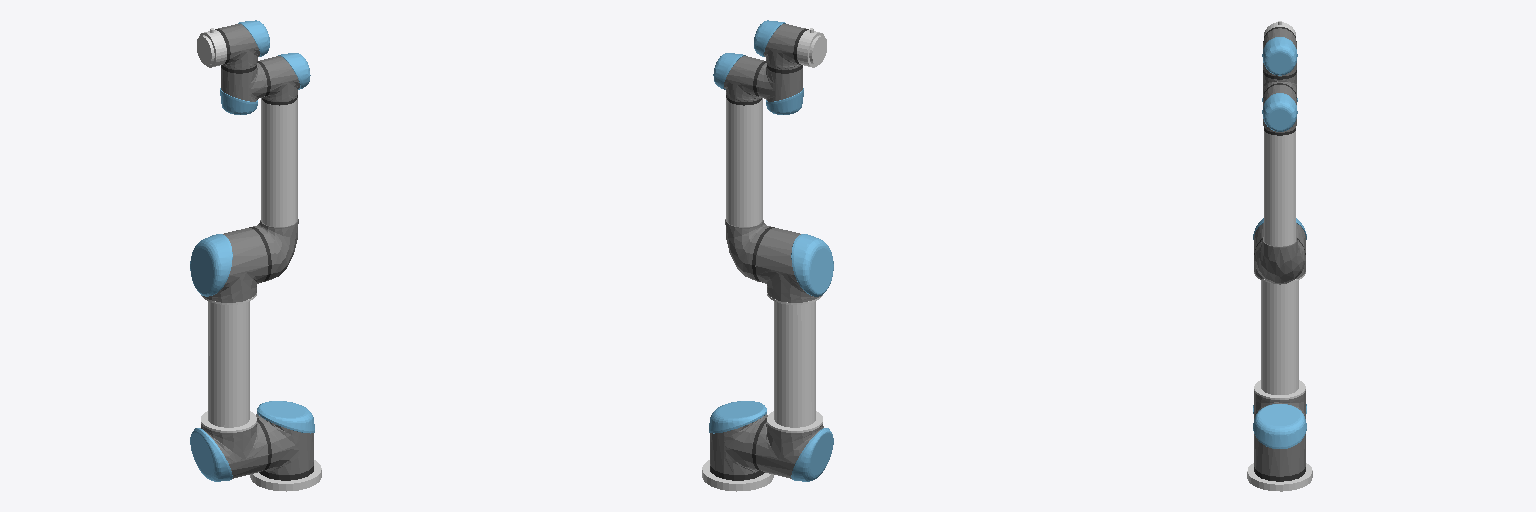
robot.urdf — UR5:
<?xml version="1.0"?>
<robot name="UR5">
    <link name="robot_base">
        <collision name="UR5">
            <origin rpy="-3.141593 3.141593 -2.552481" xyz="-0.000000 -0.000000 0.008500" />
            <geometry>
                <cylinder length="0.012300089001656" radius="0.056886240839958" />
            </geometry>
        </collision>
        <collision name="UR5">
            <origin rpy="-3.141592 3.141593 1.747927" xyz="0.000000 0.000000 -0.006150" />
            <geometry>
                <cylinder length="0.017000352963805" radius="0.072642646729946" />
            </geometry>
        </collision>
        <visual name="link1_visible">
            <origin rpy="-3.141593 3.141593 -3.141593" xyz="-0.000000 -0.000000 0.000000" />
            <geometry>
                <mesh filename="ur5_link1_visible_vis_1.dae" />
            </geometry>
            <material name="link1_visible_material">
                <color rgba="0.870588 0.870588 0.870588 1.0" />
            </material>
        </visual>
        <visual name="link1_visible">
            <origin rpy="-3.141593 3.141593 -3.141593" xyz="-0.000000 -0.000000 0.000000" />
            <geometry>
                <mesh filename="ur5_link1_visible_vis_2.dae" />
            </geometry>
            <material name="link1_visible_material">
                <color rgba="0.282353 0.282353 0.282353 1.0" />
            </material>
        </visual>
    </link>
    <joint name="joint" type="revolute">
        <axis xyz="0 0 1" />
        <limit upper="6.2831853071792" effort="200.0" velocity="1.5707963705063" lower="-6.28318530718" />
        <parent link="robot_base" />
        <child link="link" />
        <origin rpy="-3.141593 3.141593 -3.141593" xyz="0.000000 -0.000000 0.008500" />
    </joint>
    <link name="link">
        <inertial>
            <origin rpy="-3.141593 3.141593 -3.141593" xyz="-0.012312 0.000048 0.066405" />
            <inertia iyz="-7.9251186174956e-05" ixz="0.0024490834762624" ixx="0.095492165355254" ixy="8.9516803607533e-05" iyy="0.10672965841326" izz="0.09818059467752" />
            <mass value="2.5" />
        </inertial>
        <collision name="link">
            <origin rpy="-3.141593 3.141593 -3.141593" xyz="-0.007178 0.000095 0.070381" />
            <geometry>
                <mesh filename="ur5_link_coll_1.dae" />
            </geometry>
        </collision>
        <collision name="link">
            <origin rpy="-3.141593 3.141593 -3.141593" xyz="-0.007178 0.000095 0.070381" />
            <geometry>
                <mesh filename="ur5_link_coll_2.dae" />
            </geometry>
        </collision>
        <collision name="link">
            <origin rpy="-3.141593 3.141593 -3.141593" xyz="-0.007178 0.000095 0.070381" />
            <geometry>
                <mesh filename="ur5_link_coll_3.dae" />
            </geometry>
        </collision>
        <visual name="link2_visible">
            <origin rpy="-3.141593 3.141593 -3.141593" xyz="-0.007150 0.000000 0.070335" />
            <geometry>
                <mesh filename="ur5_link2_visible_vis_1.dae" />
            </geometry>
            <material name="link2_visible_material">
                <color rgba="0.282353 0.282353 0.282353 1.0" />
            </material>
        </visual>
        <visual name="link2_visible">
            <origin rpy="-3.141593 3.141593 -3.141593" xyz="-0.007150 0.000000 0.070335" />
            <geometry>
                <mesh filename="ur5_link2_visible_vis_2.dae" />
            </geometry>
            <material name="link2_visible_material">
                <color rgba="0.535294 0.535294 0.535294 1.0" />
            </material>
        </visual>
        <visual name="link2_visible">
            <origin rpy="-3.141593 3.141593 -3.141593" xyz="-0.007150 0.000000 0.070335" />
            <geometry>
                <mesh filename="ur5_link2_visible_vis_3.dae" />
            </geometry>
            <material name="link2_visible_material">
                <color rgba="0.508235 0.761224 0.903529 1.0" />
            </material>
        </visual>
    </link>
    <joint name="joint_2" type="revolute">
        <axis xyz="0 0 1" />
        <limit upper="6.2831854820251" effort="200.0" velocity="1.5707963705063" lower="-6.2831854820251" />
        <parent link="link" />
        <child link="link_2" />
        <origin rpy="0.000000 -1.570796 0.000000" xyz="-0.070300 0.000000 0.066050" />
    </joint>
    <link name="link_2">
        <inertial>
            <origin rpy="0.000000 1.570796 0.000000" xyz="0.215595 -0.000035 0.063573" />
            <inertia iyz="-0.00017721757850982" ixz="-0.0052638063542259" ixx="0.62573305153059" ixy="9.2431180680848e-06" iyy="0.63325135224174" izz="0.067345368316432" />
            <mass value="5.6999998092651" />
        </inertial>
        <collision name="link">
            <origin rpy="0.000000 1.570796 0.000000" xyz="0.212550 -0.000115 0.064235" />
            <geometry>
                <mesh filename="ur5_link_2_coll_1.dae" />
            </geometry>
        </collision>
        <collision name="link">
            <origin rpy="0.000000 1.570796 0.000000" xyz="0.212550 -0.000115 0.064235" />
            <geometry>
                <mesh filename="ur5_link_2_coll_2.dae" />
            </geometry>
        </collision>
        <collision name="link">
            <origin rpy="0.000000 1.570796 0.000000" xyz="0.212550 -0.000115 0.064235" />
            <geometry>
                <mesh filename="ur5_link_2_coll_3.dae" />
            </geometry>
        </collision>
        <collision name="link">
            <origin rpy="0.000000 1.570796 0.000000" xyz="0.212550 -0.000115 0.064235" />
            <geometry>
                <mesh filename="ur5_link_2_coll_4.dae" />
            </geometry>
        </collision>
        <collision name="link">
            <origin rpy="0.000000 1.570796 0.000000" xyz="0.212550 -0.000115 0.064235" />
            <geometry>
                <mesh filename="ur5_link_2_coll_5.dae" />
            </geometry>
        </collision>
        <collision name="link">
            <origin rpy="0.000000 1.570796 0.000000" xyz="0.212550 -0.000115 0.064235" />
            <geometry>
                <mesh filename="ur5_link_2_coll_6.dae" />
            </geometry>
        </collision>
        <collision name="link">
            <origin rpy="0.000000 1.570796 0.000000" xyz="0.212550 -0.000115 0.064235" />
            <geometry>
                <mesh filename="ur5_link_2_coll_7.dae" />
            </geometry>
        </collision>
        <visual name="link3_visible">
            <origin rpy="-0.000000 1.570796 0.000000" xyz="0.212550 0.000000 0.064217" />
            <geometry>
                <mesh filename="ur5_link3_visible_vis_1.dae" />
            </geometry>
            <material name="link3_visible_material">
                <color rgba="0.870588 0.870588 0.870588 1.0" />
            </material>
        </visual>
        <visual name="link3_visible">
            <origin rpy="-0.000000 1.570796 0.000000" xyz="0.212550 0.000000 0.064217" />
            <geometry>
                <mesh filename="ur5_link3_visible_vis_2.dae" />
            </geometry>
            <material name="link3_visible_material">
                <color rgba="0.508235 0.761224 0.903529 1.0" />
            </material>
        </visual>
        <visual name="link3_visible">
            <origin rpy="-0.000000 1.570796 0.000000" xyz="0.212550 0.000000 0.064217" />
            <geometry>
                <mesh filename="ur5_link3_visible_vis_3.dae" />
            </geometry>
            <material name="link3_visible_material">
                <color rgba="0.535294 0.535294 0.535294 1.0" />
            </material>
        </visual>
        <visual name="link3_visible">
            <origin rpy="-0.000000 1.570796 0.000000" xyz="0.212550 0.000000 0.064217" />
            <geometry>
                <mesh filename="ur5_link3_visible_vis_4.dae" />
            </geometry>
            <material name="link3_visible_material">
                <color rgba="0.282353 0.282353 0.282353 1.0" />
            </material>
        </visual>
        <visual name="link3_visible">
            <origin rpy="-0.000000 1.570796 0.000000" xyz="0.212550 0.000000 0.064217" />
            <geometry>
                <mesh filename="ur5_link3_visible_vis_5.dae" />
            </geometry>
            <material name="link3_visible_material">
                <color rgba="0.535294 0.535294 0.535294 1.0" />
            </material>
        </visual>
        <visual name="link3_visible">
            <origin rpy="-0.000000 1.570796 0.000000" xyz="0.212550 0.000000 0.064217" />
            <geometry>
                <mesh filename="ur5_link3_visible_vis_6.dae" />
            </geometry>
            <material name="link3_visible_material">
                <color rgba="0.508235 0.761224 0.903529 1.0" />
            </material>
        </visual>
    </link>
    <joint name="joint_3" type="revolute">
        <axis xyz="0 0 1" />
        <limit upper="6.2831854820251" effort="200.0" velocity="1.5707963705063" lower="-6.2831854820251" />
        <parent link="link_2" />
        <child link="link_3" />
        <origin rpy="-3.141593 3.141593 -3.141593" xyz="0.425100 0.000000 0.000000" />
    </joint>
    <link name="link_3">
        <inertial>
            <origin rpy="0.000000 1.570796 0.000000" xyz="0.192773 0.000015 -0.050153" />
            <inertia iyz="-2.1029099787318e-05" ixz="-0.027670910392482" ixx="0.4592564485459" ixy="2.2187787147887e-06" iyy="0.46060709235019" izz="0.035597955537677" />
            <mass value="3.9000000953674" />
        </inertial>
        <collision name="link">
            <origin rpy="0.000000 1.570796 0.000000" xyz="0.186773 0.000016 -0.057847" />
            <geometry>
                <mesh filename="ur5_link_3_coll_1.dae" />
            </geometry>
        </collision>
        <collision name="link">
            <origin rpy="0.000000 1.570796 0.000000" xyz="0.186773 0.000016 -0.057847" />
            <geometry>
                <mesh filename="ur5_link_3_coll_2.dae" />
            </geometry>
        </collision>
        <collision name="link">
            <origin rpy="0.000000 1.570796 0.000000" xyz="0.186773 0.000016 -0.057847" />
            <geometry>
                <mesh filename="ur5_link_3_coll_3.dae" />
            </geometry>
        </collision>
        <collision name="link">
            <origin rpy="0.000000 1.570796 0.000000" xyz="0.186773 0.000016 -0.057847" />
            <geometry>
                <mesh filename="ur5_link_3_coll_4.dae" />
            </geometry>
        </collision>
        <collision name="link">
            <origin rpy="0.000000 1.570796 0.000000" xyz="0.186773 0.000016 -0.057847" />
            <geometry>
                <mesh filename="ur5_link_3_coll_5.dae" />
            </geometry>
        </collision>
        <visual name="link4_visible">
            <origin rpy="0.000000 1.570796 0.000000" xyz="0.186650 -0.000000 -0.057850" />
            <geometry>
                <mesh filename="ur5_link4_visible_vis_1.dae" />
            </geometry>
            <material name="link4_visible_material">
                <color rgba="0.870588 0.870588 0.870588 1.0" />
            </material>
        </visual>
        <visual name="link4_visible">
            <origin rpy="0.000000 1.570796 0.000000" xyz="0.186650 -0.000000 -0.057850" />
            <geometry>
                <mesh filename="ur5_link4_visible_vis_2.dae" />
            </geometry>
            <material name="link4_visible_material">
                <color rgba="0.535294 0.535294 0.535294 1.0" />
            </material>
        </visual>
        <visual name="link4_visible">
            <origin rpy="0.000000 1.570796 0.000000" xyz="0.186650 -0.000000 -0.057850" />
            <geometry>
                <mesh filename="ur5_link4_visible_vis_3.dae" />
            </geometry>
            <material name="link4_visible_material">
                <color rgba="0.508235 0.761224 0.903529 1.0" />
            </material>
        </visual>
        <visual name="link4_visible">
            <origin rpy="0.000000 1.570796 0.000000" xyz="0.186650 -0.000000 -0.057850" />
            <geometry>
                <mesh filename="ur5_link4_visible_vis_4.dae" />
            </geometry>
            <material name="link4_visible_material">
                <color rgba="0.282353 0.282353 0.282353 1.0" />
            </material>
        </visual>
        <visual name="link4_visible">
            <origin rpy="0.000000 1.570796 0.000000" xyz="0.186650 -0.000000 -0.057850" />
            <geometry>
                <mesh filename="ur5_link4_visible_vis_5.dae" />
            </geometry>
            <material name="link4_visible_material">
                <color rgba="0.535294 0.535294 0.535294 1.0" />
            </material>
        </visual>
    </link>
    <joint name="joint_4" type="revolute">
        <axis xyz="0 0 1" />
        <limit upper="6.2831854820251" effort="200.0" velocity="1.5707963705063" lower="-6.2831854820251" />
        <parent link="link_3" />
        <child link="link_4" />
        <origin rpy="-3.141593 3.141593 -3.141593" xyz="0.392150 0.000000 0.000000" />
    </joint>
    <link name="link_4">
        <inertial>
            <origin rpy="0.000000 1.570796 0.000000" xyz="-0.005517 -0.000003 0.030943" />
            <inertia iyz="-1.791527123899e-05" ixz="-0.0020900872562349" ixx="0.10017005794782" ixy="3.1976010243315e-06" iyy="0.11466452218562" izz="0.087106483494915" />
            <mass value="2.5" />
        </inertial>
        <collision name="link">
            <origin rpy="0.000000 1.570796 0.000000" xyz="-0.007501 -0.000045 0.032830" />
            <geometry>
                <mesh filename="ur5_link_4_coll_1.dae" />
            </geometry>
        </collision>
        <collision name="link">
            <origin rpy="0.000000 1.570796 0.000000" xyz="-0.007501 -0.000045 0.032830" />
            <geometry>
                <mesh filename="ur5_link_4_coll_2.dae" />
            </geometry>
        </collision>
        <collision name="link">
            <origin rpy="0.000000 1.570796 0.000000" xyz="-0.007501 -0.000045 0.032830" />
            <geometry>
                <mesh filename="ur5_link_4_coll_3.dae" />
            </geometry>
        </collision>
        <visual name="link5_visible">
            <origin rpy="0.000000 1.570796 0.000000" xyz="-0.007500 -0.000000 0.032800" />
            <geometry>
                <mesh filename="ur5_link5_visible_vis_1.dae" />
            </geometry>
            <material name="link5_visible_material">
                <color rgba="0.282353 0.282353 0.282353 1.0" />
            </material>
        </visual>
        <visual name="link5_visible">
            <origin rpy="0.000000 1.570796 0.000000" xyz="-0.007500 -0.000000 0.032800" />
            <geometry>
                <mesh filename="ur5_link5_visible_vis_2.dae" />
            </geometry>
            <material name="link5_visible_material">
                <color rgba="0.535294 0.535294 0.535294 1.0" />
            </material>
        </visual>
        <visual name="link5_visible">
            <origin rpy="0.000000 1.570796 0.000000" xyz="-0.007500 -0.000000 0.032800" />
            <geometry>
                <mesh filename="ur5_link5_visible_vis_3.dae" />
            </geometry>
            <material name="link5_visible_material">
                <color rgba="0.508235 0.761224 0.903529 1.0" />
            </material>
        </visual>
    </link>
    <joint name="joint_5" type="revolute">
        <axis xyz="0 0 1" />
        <limit upper="6.2831854820251" effort="200.0" velocity="1.5707963705063" lower="-6.2831854820251" />
        <parent link="link_4" />
        <child link="link_5" />
        <origin rpy="0.000000 1.570796 0.000000" xyz="0.045575 -0.000000 0.039700" />
    </joint>
    <link name="link_5">
        <inertial>
            <origin rpy="-3.141593 3.141593 -3.141593" xyz="0.002100 0.000002 0.040669" />
            <inertia iyz="3.8714712477568e-06" ixz="-0.00073245390311674" ixx="0.08179215416809" ixy="-1.5531769026879e-05" iyy="0.11739579576874" izz="0.1041509279002" />
            <mass value="2.5" />
        </inertial>
        <collision name="link">
            <origin rpy="-3.141593 3.141593 -3.141593" xyz="0.003601 0.000045 0.042305" />
            <geometry>
                <mesh filename="ur5_link_5_coll_1.dae" />
            </geometry>
        </collision>
        <collision name="link">
            <origin rpy="-3.141593 3.141593 -3.141593" xyz="0.003601 0.000045 0.042305" />
            <geometry>
                <mesh filename="ur5_link_5_coll_2.dae" />
            </geometry>
        </collision>
        <collision name="link">
            <origin rpy="-3.141593 3.141593 -3.141593" xyz="0.003601 0.000045 0.042305" />
            <geometry>
                <mesh filename="ur5_link_5_coll_3.dae" />
            </geometry>
        </collision>
        <visual name="link6_visible">
            <origin rpy="-3.141593 3.141593 -3.141593" xyz="0.003600 0.000000 0.042275" />
            <geometry>
                <mesh filename="ur5_link6_visible_vis_1.dae" />
            </geometry>
            <material name="link6_visible_material">
                <color rgba="0.535294 0.535294 0.535294 1.0" />
            </material>
        </visual>
        <visual name="link6_visible">
            <origin rpy="-3.141593 3.141593 -3.141593" xyz="0.003600 0.000000 0.042275" />
            <geometry>
                <mesh filename="ur5_link6_visible_vis_2.dae" />
            </geometry>
            <material name="link6_visible_material">
                <color rgba="0.508235 0.761224 0.903529 1.0" />
            </material>
        </visual>
        <visual name="link6_visible">
            <origin rpy="-3.141593 3.141593 -3.141593" xyz="0.003600 0.000000 0.042275" />
            <geometry>
                <mesh filename="ur5_link6_visible_vis_3.dae" />
            </geometry>
            <material name="link6_visible_material">
                <color rgba="0.282353 0.282353 0.282353 1.0" />
            </material>
        </visual>
        <visual name="link6_visible">
            <origin rpy="-3.141593 3.141593 -3.141593" xyz="0.003600 0.000000 0.042275" />
            <geometry>
                <mesh filename="ur5_link6_visible_vis_4.dae" />
            </geometry>
            <material name="link6_visible_material">
                <color rgba="0.282353 0.282353 0.282353 1.0" />
            </material>
        </visual>
    </link>
    <joint name="joint_6" type="revolute">
        <axis xyz="0 0 1" />
        <limit upper="6.2831854820251" effort="200.0" velocity="1.5707963705063" lower="-6.2831854820251" />
        <parent link="link_5" />
        <child link="link_6" />
        <origin rpy="0.000000 -1.570796 0.000000" xyz="0.014425 0.000000 0.049175" />
    </joint>
    <link name="link_6">
        <inertial>
            <origin rpy="-3.141593 3.141593 -3.141593" xyz="0.000000 -0.000000 0.076675" />
            <inertia iyz="0.0" ixz="0.0" ixx="0.0058406852103875" ixy="0.0" iyy="0.0058406852103875" izz="0.010054638677955" />
            <mass value="0.69999998807907" />
        </inertial>
        <collision name="link">
            <origin rpy="-3.141593 3.141593 -3.141593" xyz="0.000000 -0.000000 0.076675" />
            <geometry>
                <cylinder length="0.025500684976578" radius="0.036602452397346" />
            </geometry>
        </collision>
        <visual name="link7_visible">
            <origin rpy="0.000000 1.570796 0.000000" xyz="0.003860 0.000000 0.080425" />
            <geometry>
                <mesh filename="ur5_link7_visible_vis_1.dae" />
            </geometry>
            <material name="link7_visible_material">
                <color rgba="0.870588 0.870588 0.870588 1.0" />
            </material>
        </visual>
    </link>
</robot>

--- Render facts (derived) ---
The picture shows the robot from 3 angles, left to right: view 1: azimuth 30°, elevation 25°; view 2: azimuth 150°, elevation 25°; view 3: azimuth 270°, elevation 25°; orthographic projection.
Robot: UR5 — 7 links, 6 joints (6 revolute); root link robot_base; default pose: every joint at zero.
Visible links, largest first — view 1: link_2, link_3, link, link_5, link_4, robot_base, link_6; view 2: link_2, link_3, link, link_5, link_4, robot_base, link_6; view 3: link_3, link_2, link, link_5, robot_base.
Link boxes in pixels (left/top/right/bottom): link_2: left=190, top=227, right=271, bottom=481; link_3: left=253, top=53, right=310, bottom=281; link: left=256, top=401, right=314, bottom=474; link_5: left=215, top=20, right=269, bottom=73; link_4: left=220, top=61, right=270, bottom=114; robot_base: left=250, top=455, right=321, bottom=491; link_6: left=197, top=28, right=226, bottom=67; link_2: left=752, top=227, right=833, bottom=481; link_3: left=713, top=53, right=770, bottom=281; link: left=709, top=401, right=767, bottom=474; link_5: left=754, top=20, right=808, bottom=73; link_4: left=753, top=61, right=803, bottom=114; robot_base: left=702, top=455, right=773, bottom=491; link_6: left=797, top=28, right=826, bottom=67; link_3: left=1254, top=85, right=1305, bottom=284; link_2: left=1253, top=218, right=1306, bottom=418; link: left=1253, top=404, right=1306, bottom=476; link_5: left=1262, top=27, right=1297, bottom=79; robot_base: left=1247, top=463, right=1312, bottom=491.
Size in the robot's own frame: 0.2755 by 0.1455 by 1.05 metres.
24 mesh visuals loaded from 24 distinct referenced files (24 Collada DAE).